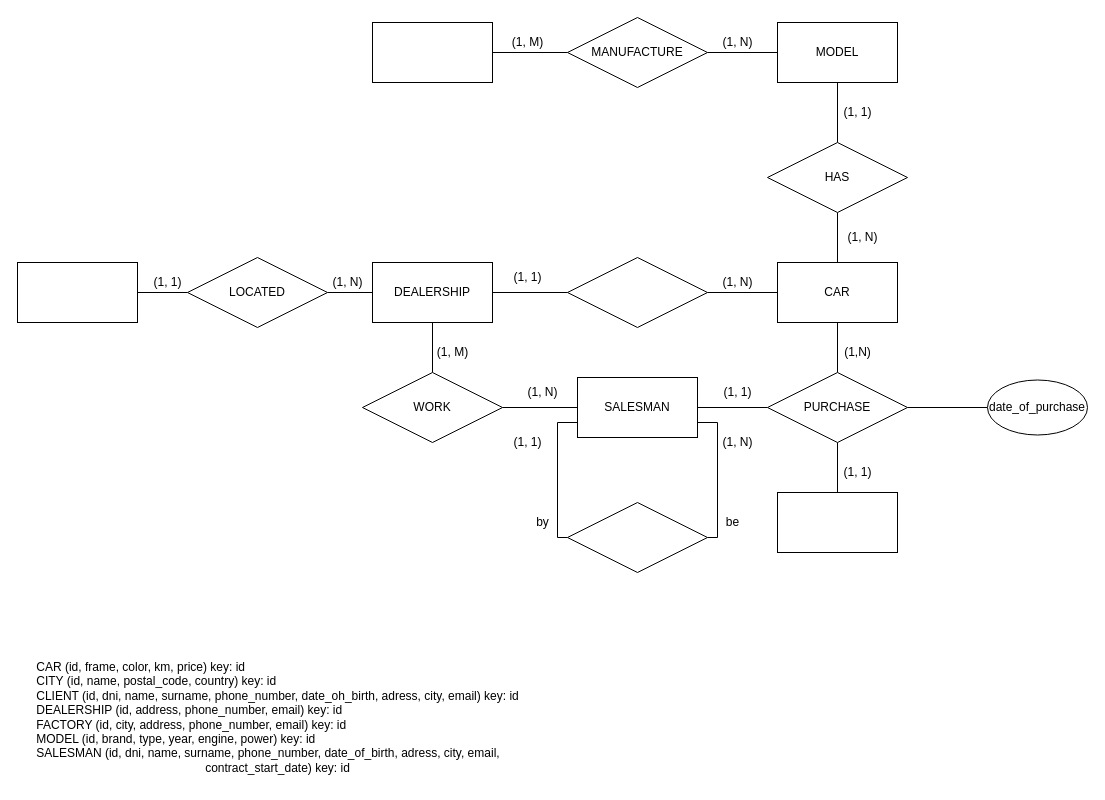
Image size: 1105x800. Some labels were removed from this diagram. Here are the shapes that lost their labels. From the top down, the box of each, then its label:
(372, 22, 492, 82): FACTORY
(16, 262, 138, 322): CITY
(566, 256, 708, 328): OWN
(566, 502, 708, 572): MANAGED
(776, 492, 898, 552): CLIENT
